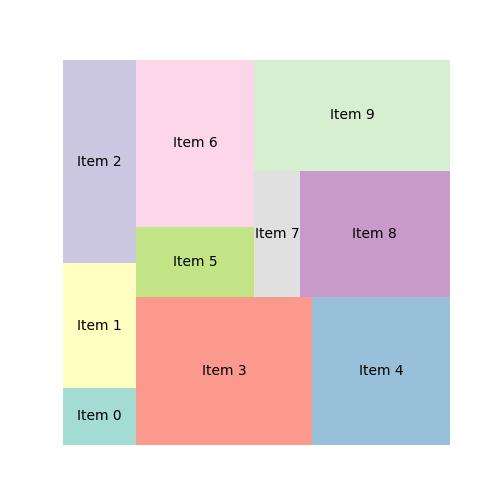rectangle: (137, 298, 312, 443), (254, 59, 450, 170), (311, 295, 450, 444), (136, 57, 254, 229), (300, 170, 449, 295), (62, 59, 138, 262), (64, 262, 136, 388), (136, 229, 254, 296), (254, 169, 301, 299), (62, 386, 137, 446)
